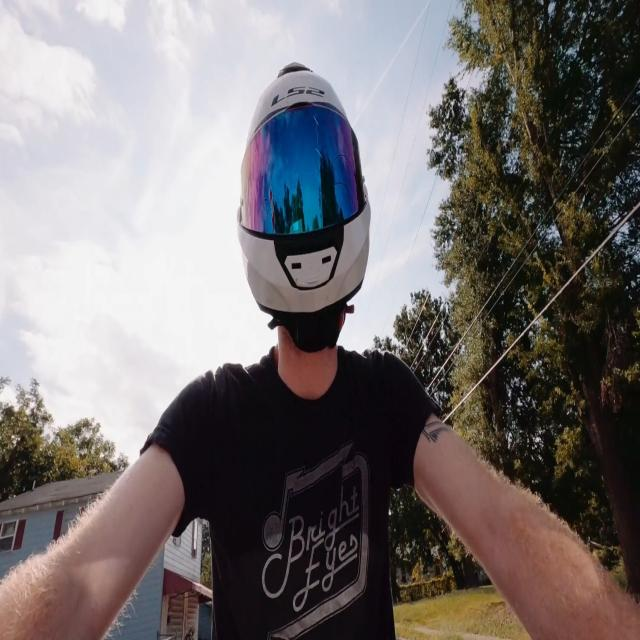Helmet_Wearer: (217, 55, 385, 376)
Person: (0, 58, 640, 640)
